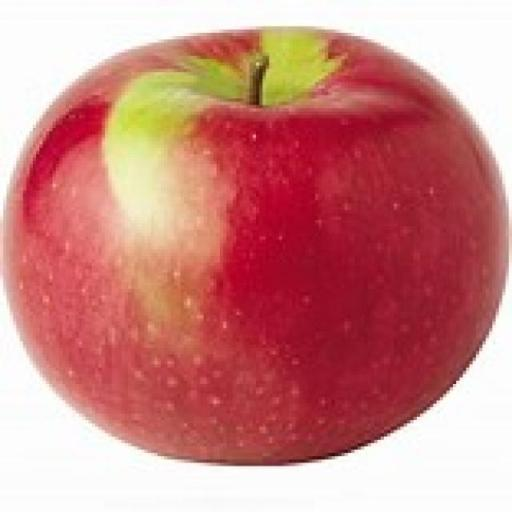fruit: (3, 28, 505, 461)
